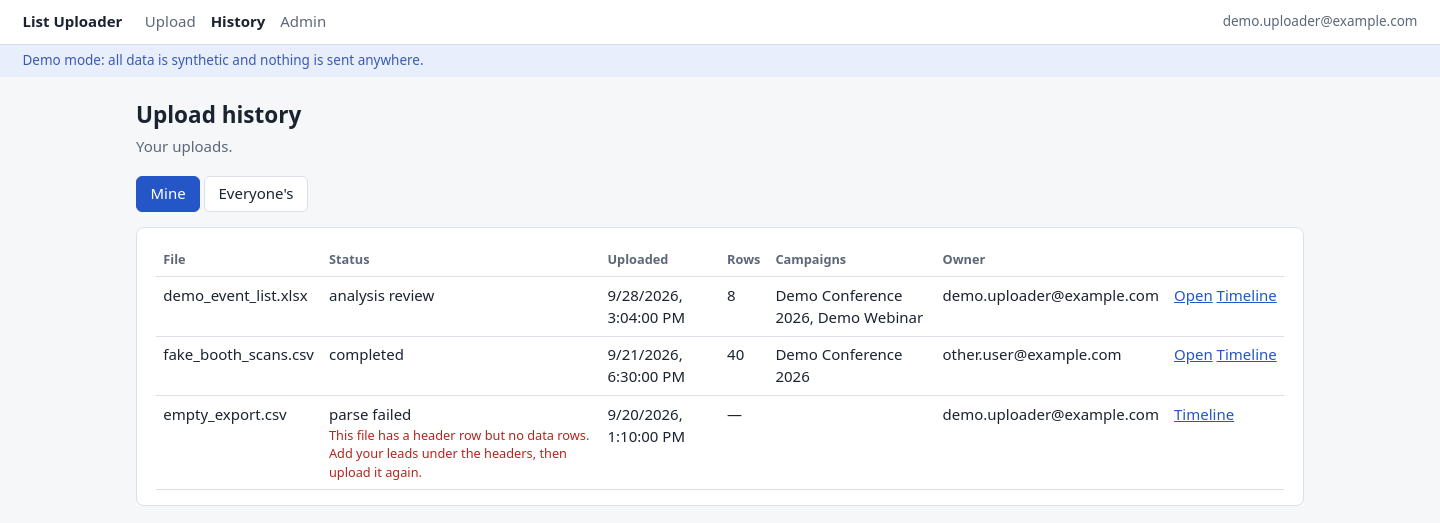
history › lets admins switch to everyone's uploads
Expected: the text "demo_event_list.xlsx" is shown, [156,277,322,336]
Step 1. Click the tab "Everyone's" → [256, 194], box [204,176,308,212]
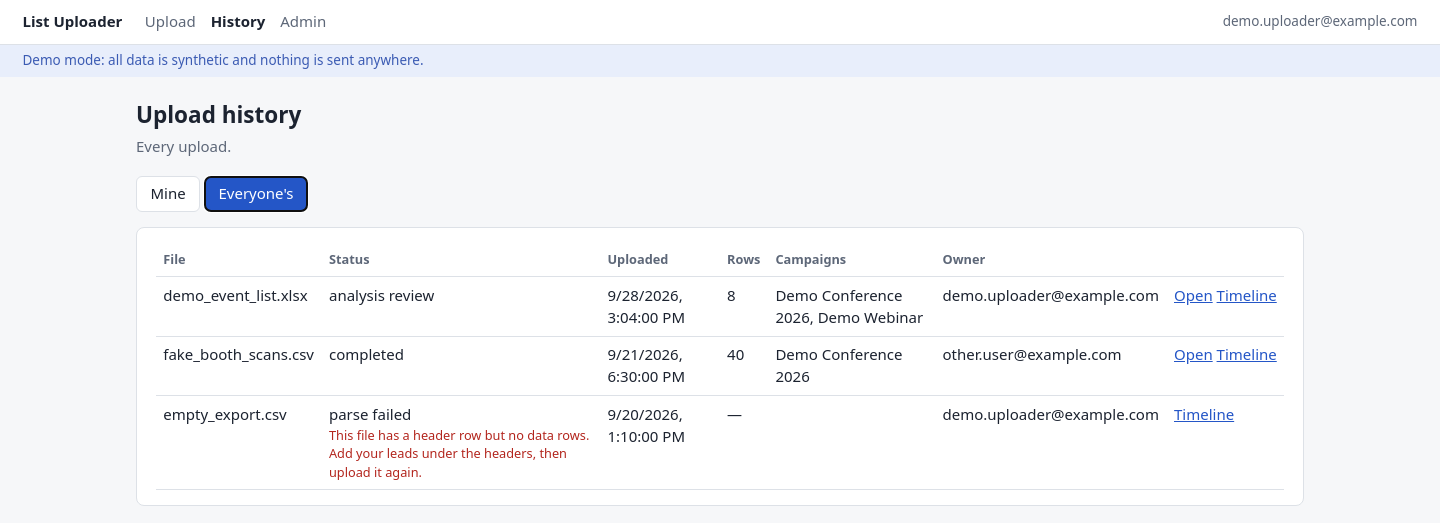
Expected: the text "Every upload." is shown, [136,136,231,156]
